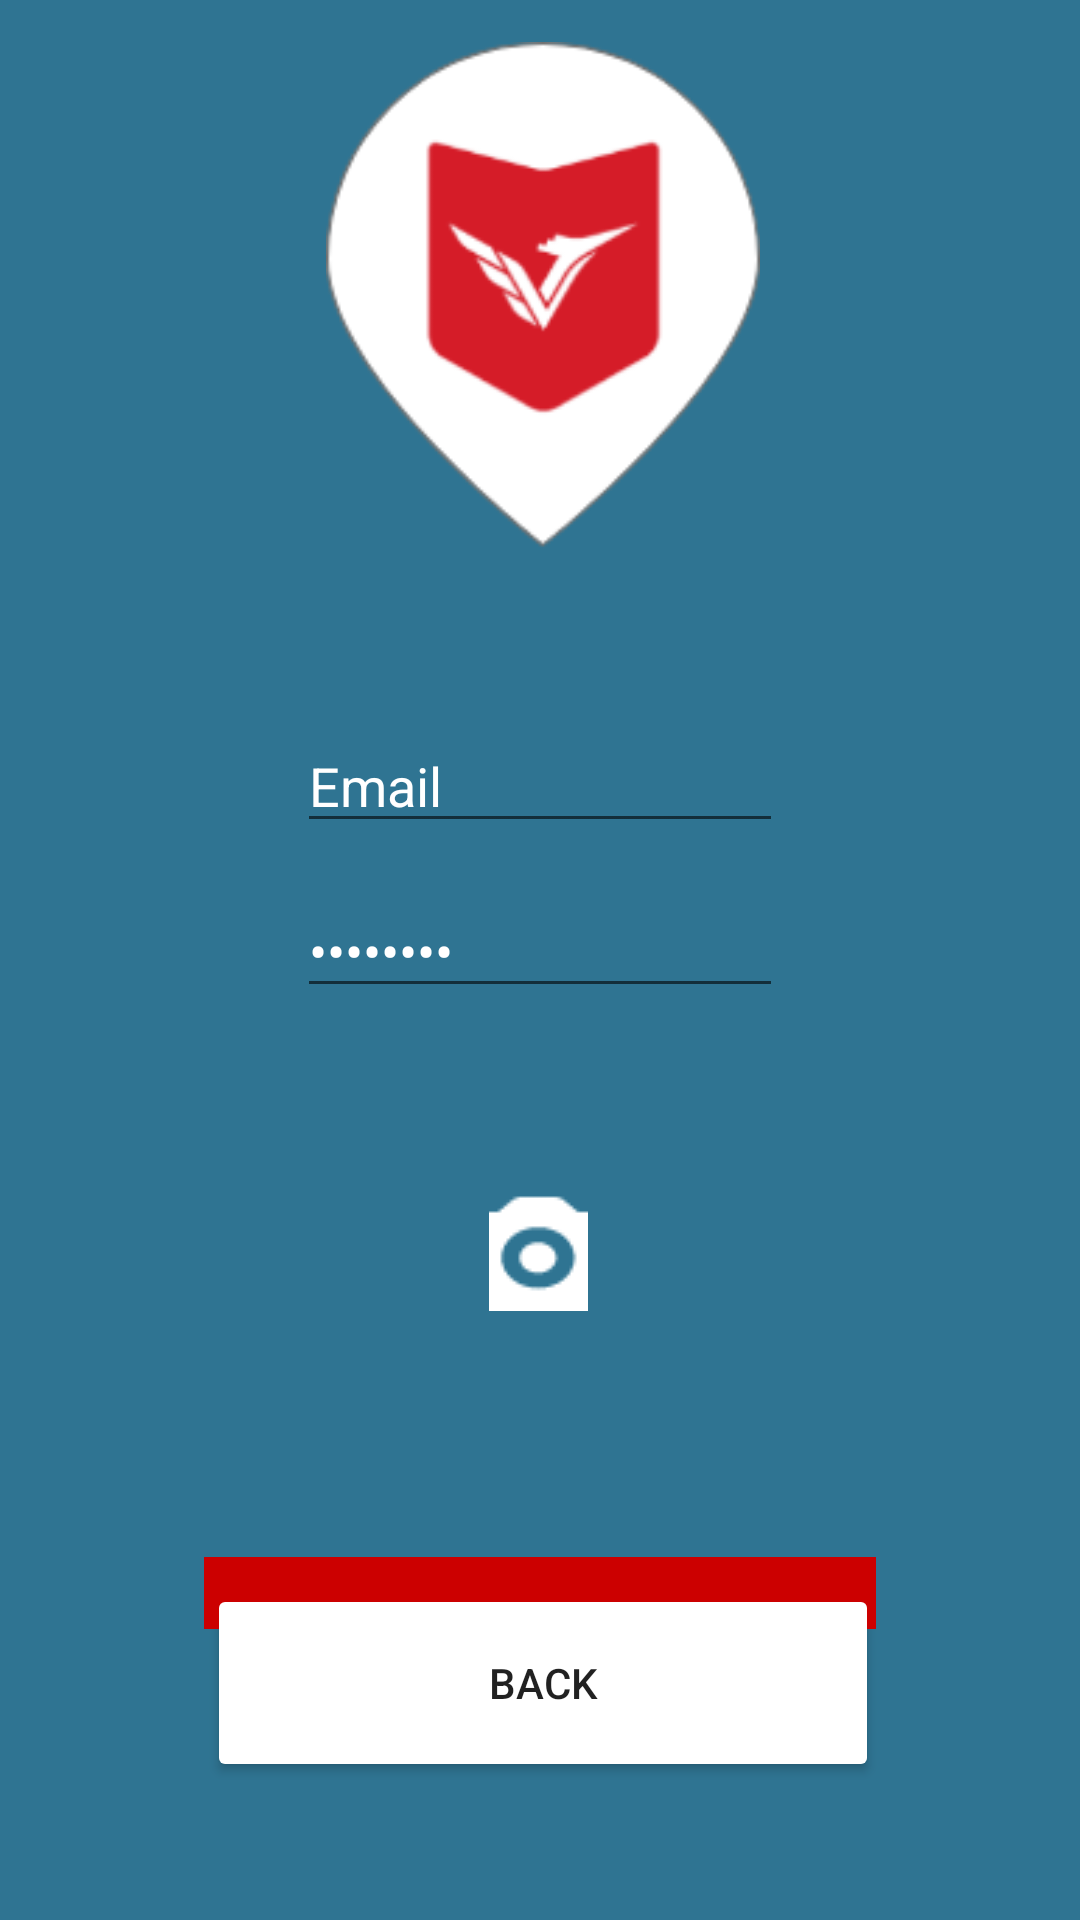

Screen size 1080 x 1920. Icon name, then its center in pixels as (x=x, y=y):
camera: (x=538, y=1253)
